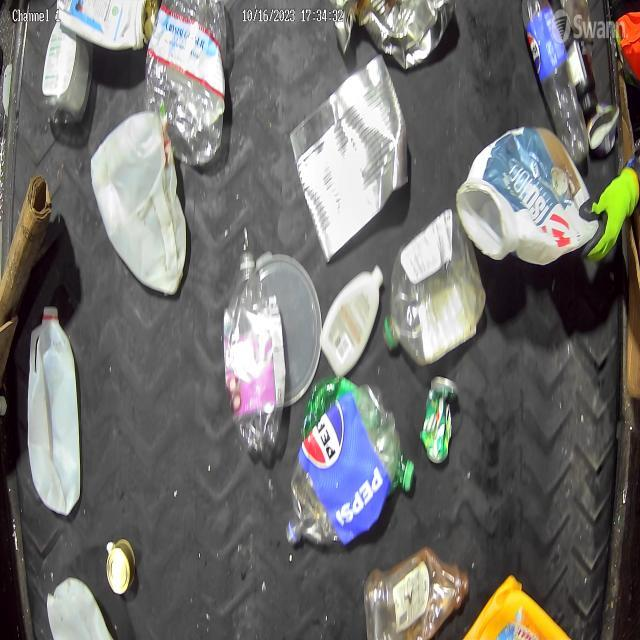can: (294, 49, 406, 257), (417, 363, 460, 475), (102, 525, 142, 602)
milk_jug: (90, 111, 188, 295), (24, 295, 86, 519)
plastic_bottle: (287, 386, 396, 540), (150, 7, 235, 166)
